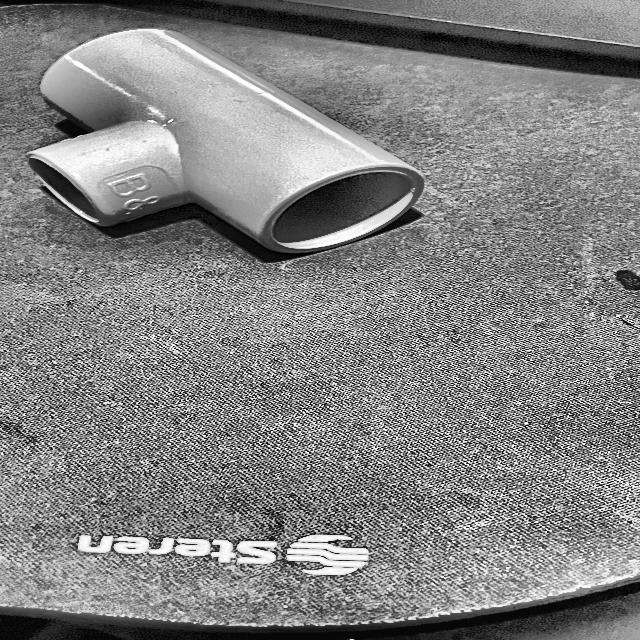EQUALTEE: (27, 28, 424, 255)
